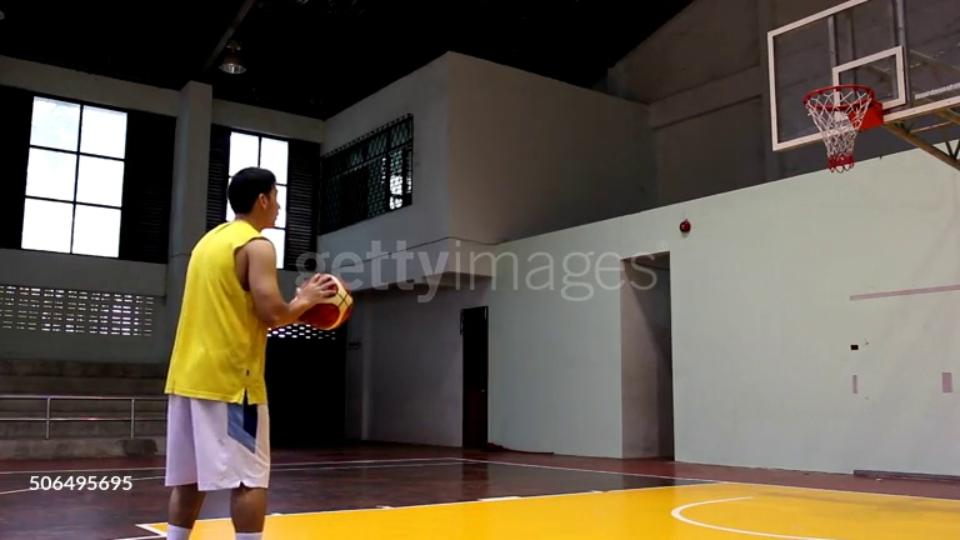hoop: (798, 83, 889, 112)
